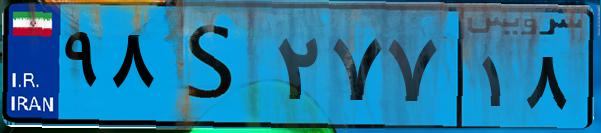1: (475, 38, 525, 113)
2: (270, 28, 330, 110)
7: (385, 28, 445, 110), (330, 28, 385, 110)
8: (525, 38, 570, 115), (110, 28, 158, 98)
9: (57, 26, 110, 100)
S: (158, 12, 270, 120)
